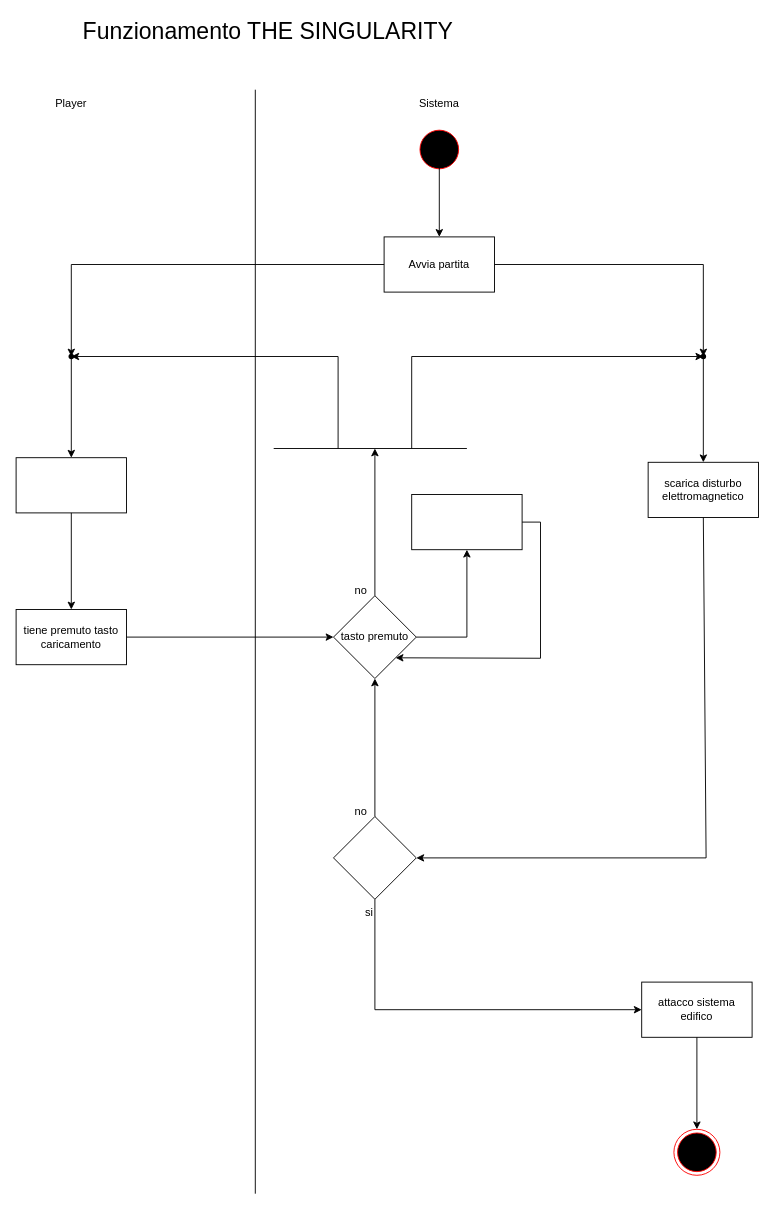
This 775x1211 diagram has some shape labels left out. The shapes that lost their labels are listed below. From the top down, each one's box as (x1, y1, x2, y2) in pixels, then its label:
(15, 457, 126, 513): Accede telecamera singularity
(411, 494, 522, 550): ricarica disturbo
(333, 816, 416, 899): disturbo scarico?
